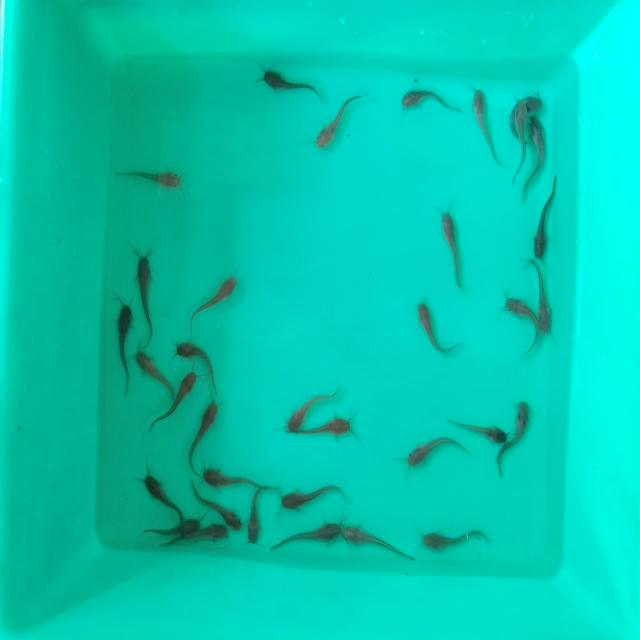lele: (532, 176, 562, 259), (399, 84, 466, 119), (502, 292, 538, 356), (417, 303, 462, 353), (317, 97, 360, 148), (195, 275, 237, 326), (471, 82, 498, 160), (440, 210, 468, 285), (276, 520, 340, 552), (452, 408, 508, 444), (113, 164, 184, 191), (509, 398, 535, 471), (137, 472, 182, 514), (535, 265, 562, 335), (135, 252, 156, 336), (344, 522, 400, 553), (276, 485, 345, 510), (135, 350, 174, 394), (262, 66, 318, 96), (191, 400, 217, 464), (402, 437, 453, 469), (422, 524, 478, 552), (114, 301, 131, 390), (203, 462, 254, 490), (306, 415, 358, 442), (510, 108, 528, 186), (170, 369, 197, 419), (142, 517, 198, 541), (290, 391, 317, 433), (210, 495, 242, 528), (508, 90, 554, 111), (246, 491, 263, 545), (177, 340, 215, 364), (529, 117, 543, 181), (198, 524, 234, 548)
